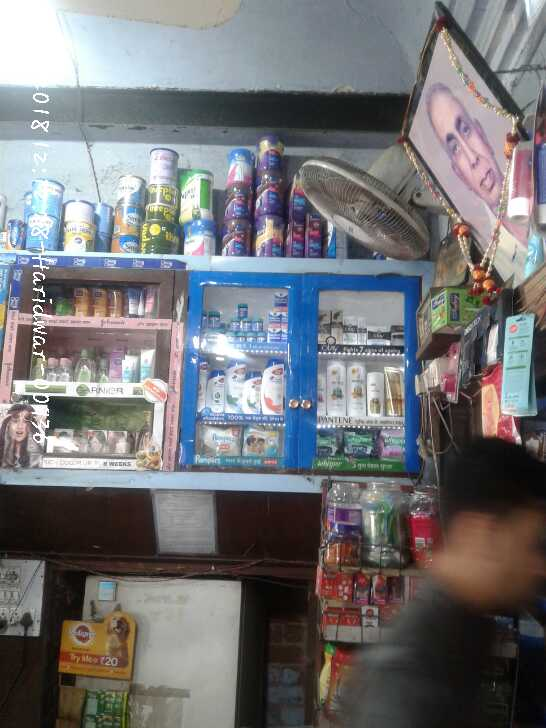vicks: (194, 282, 294, 347)
